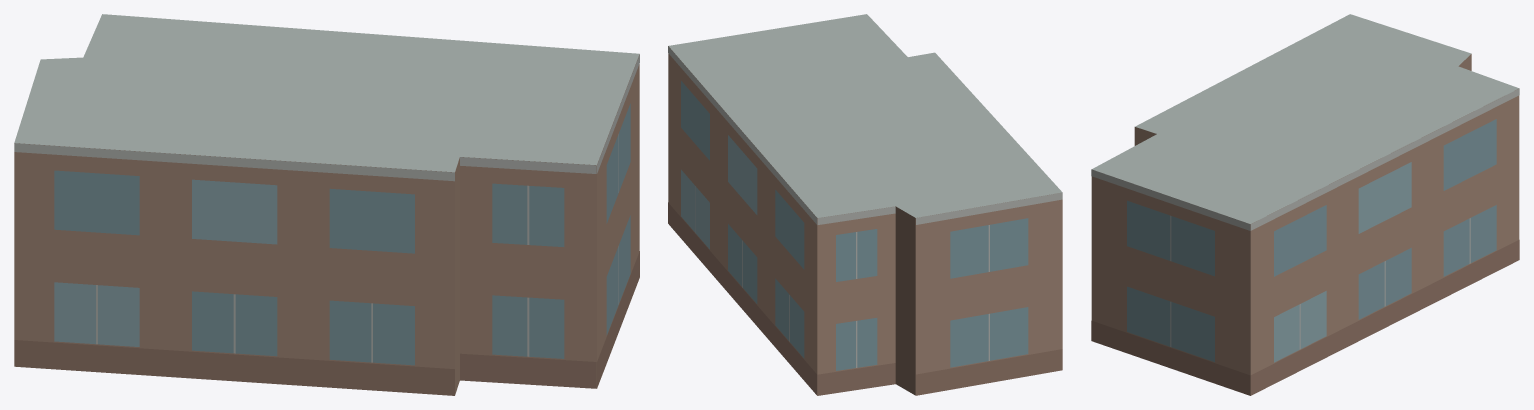
File: survey-upis-32657815.glb
3 views of the same model, side by side, from view 1: azimuth 30°, elevation 25°; view 2: azimuth 150°, elevation 25°; view 3: azimuth 270°, elevation 25° (orthographic). The views are drawn at different scales.
Parts seen in each view (by area): view 1: survey-upis-32657815.tmp; view 2: survey-upis-32657815.tmp; view 3: survey-upis-32657815.tmp.
Boxes of the visible parts, x1,y1,x2,y2 form: survey-upis-32657815.tmp: [14, 14, 639, 395]; survey-upis-32657815.tmp: [668, 14, 1062, 395]; survey-upis-32657815.tmp: [1091, 14, 1519, 395].
Size of the model in its own units: 16.02 by 6.1 by 13.79.
